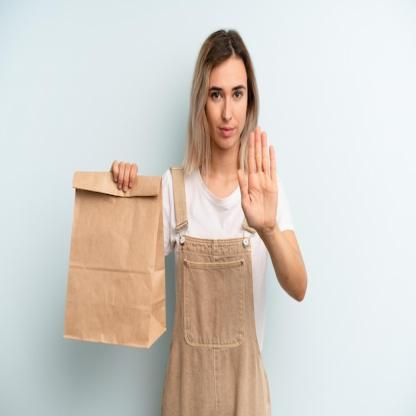stop: (236, 124, 280, 236)
